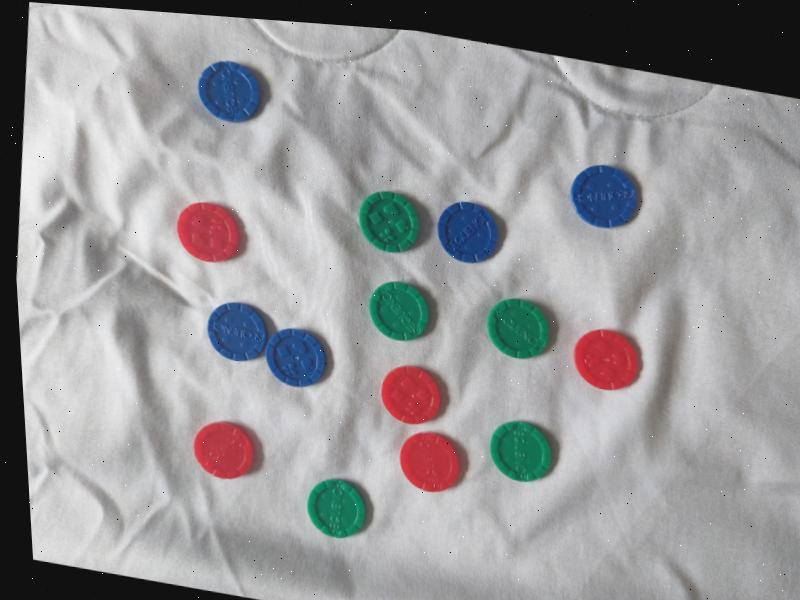Blue_Token: (562, 155, 650, 239), (186, 53, 277, 134), (427, 190, 506, 272), (257, 317, 336, 399), (201, 292, 277, 374)
Green_Token: (476, 412, 566, 494), (359, 271, 443, 354), (350, 182, 433, 264), (480, 288, 560, 369), (299, 469, 378, 550)
Red_Token: (565, 317, 655, 403), (371, 353, 453, 435), (390, 423, 471, 502), (183, 411, 263, 488)
